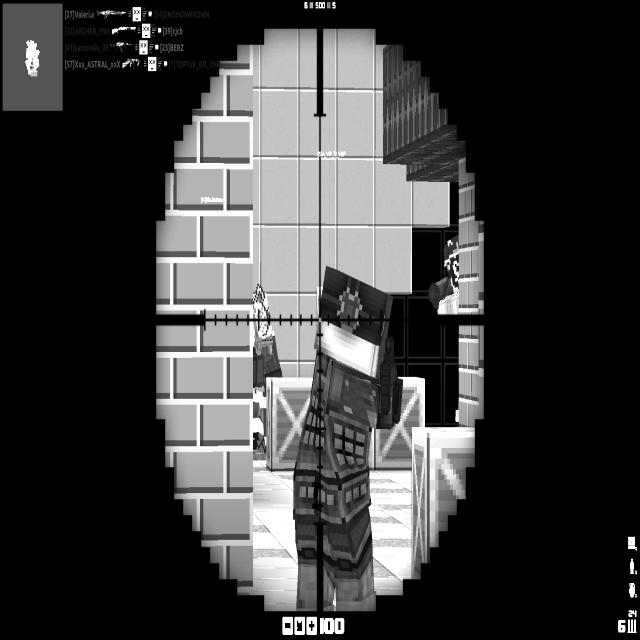Head: (314, 264, 393, 378), (438, 236, 460, 314), (252, 284, 272, 342)
Player: (292, 264, 402, 612), (252, 282, 283, 465)
